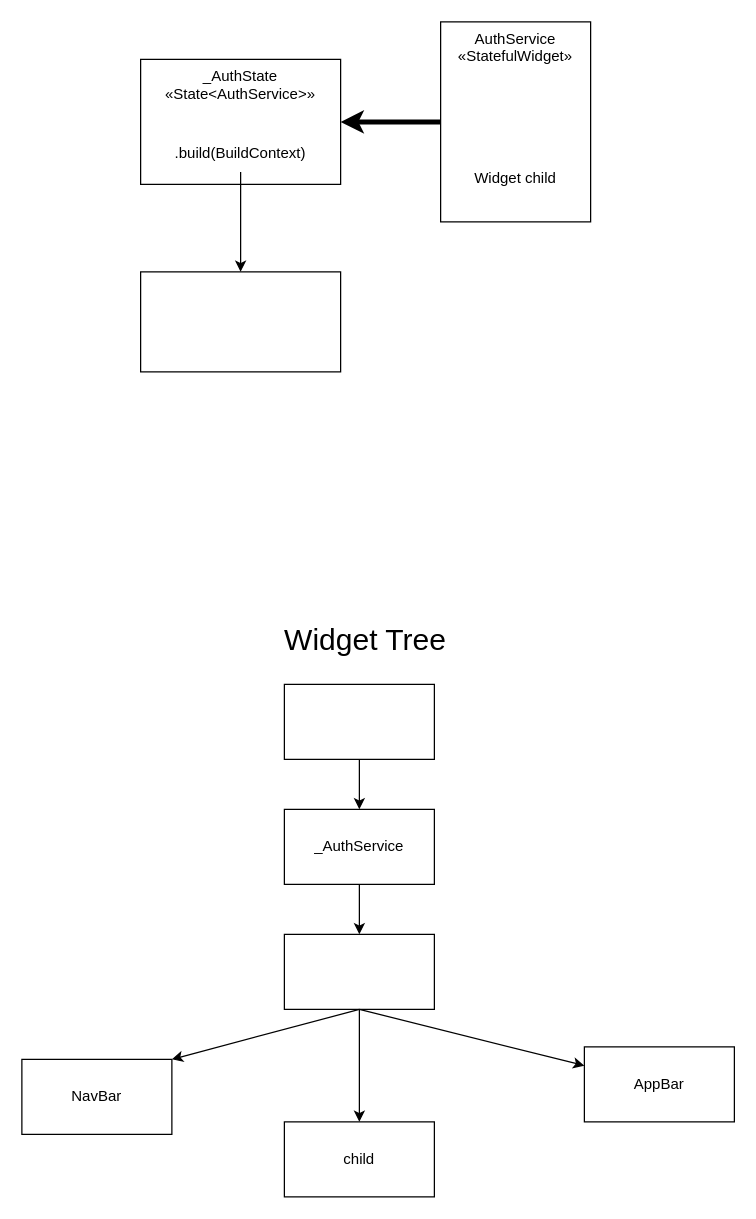
Some shapes in this 756 by 1219 pixel diagram are drawn without their labels. Here are the shapes that lost their labels. From the top down, the centre of each, then its label:
the point at 240,321: _AuthService «InheritedWidget»
the point at 358,721: AuthService
the point at 358,971: Scaffold
